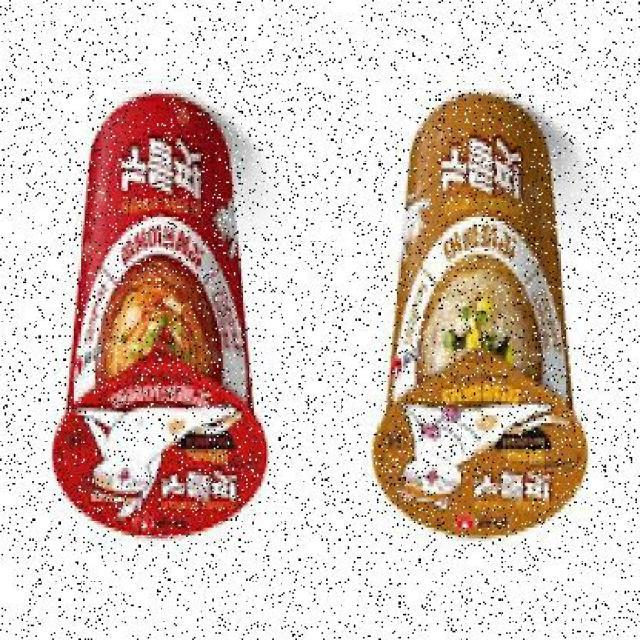Miscellaneous: (369, 86, 594, 554), (57, 90, 276, 548)
